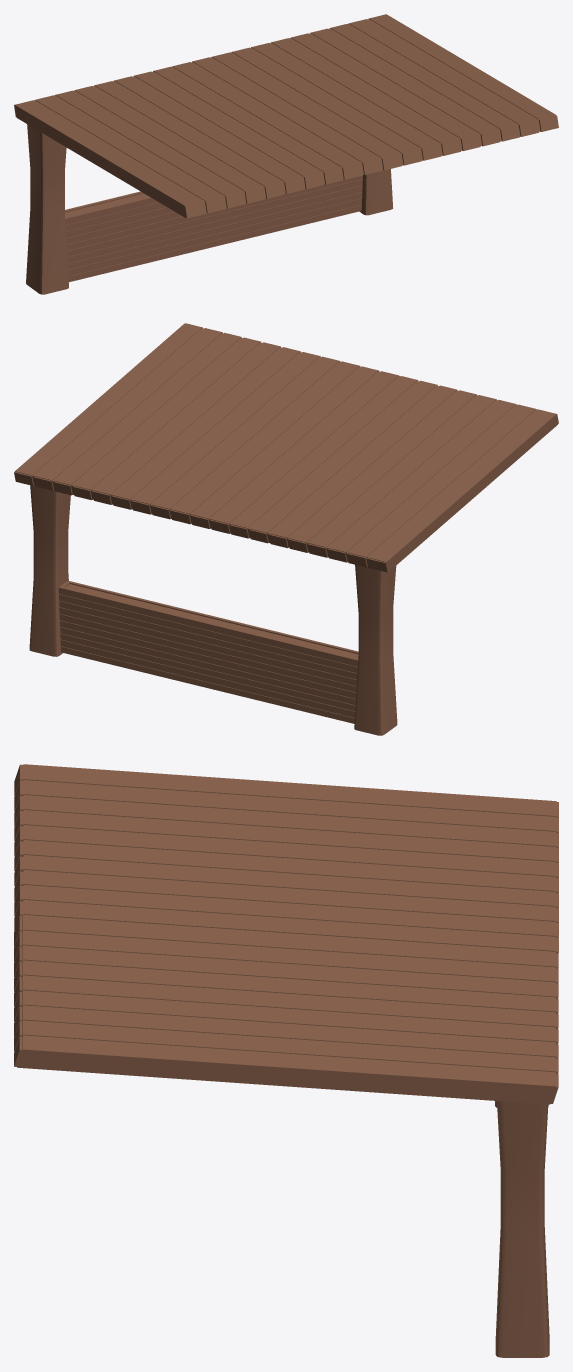
File: LargeOutdoorCover.fbx
3 views of the same model, one above another, from view 1: azimuth 30°, elevation 25°; view 2: azimuth 150°, elevation 25°; view 3: azimuth 270°, elevation 25° (orthographic). The views are drawn at different scales.
Parts seen in each view (by area): view 1: polySurface2350, polySurface2348; view 2: polySurface2350, polySurface2348; view 3: polySurface2350, polySurface2348.
Part boxes in pixels (left/top/right/bottom): polySurface2350: left=14, top=14, right=558, bottom=218; polySurface2348: left=26, top=124, right=393, bottom=294; polySurface2350: left=14, top=323, right=558, bottom=572; polySurface2348: left=29, top=485, right=397, bottom=735; polySurface2350: left=14, top=764, right=558, bottom=1104; polySurface2348: left=495, top=1101, right=549, bottom=1357.
Bounding box in the file's own units: 374 × 194 × 302.
